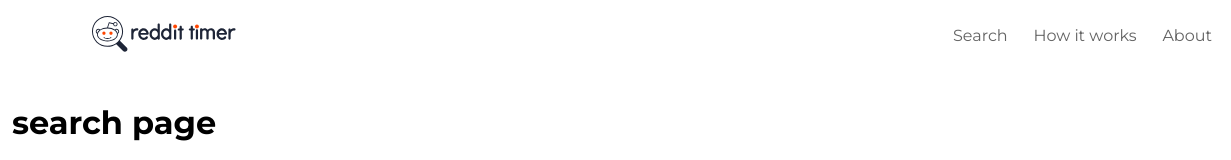
navigates to "About" section when "About" link is clicked
Click the link "About": click(1187, 34) [1162, 26, 1212, 44]
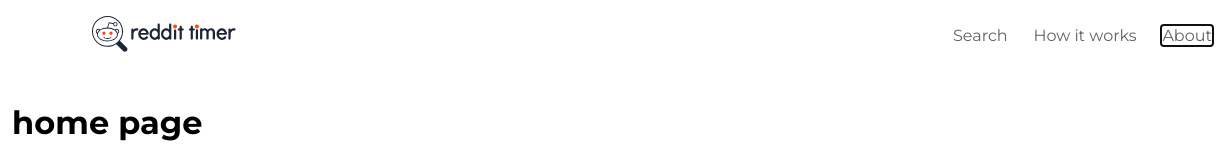
Result: the heading "home page" is shown at [12, 103, 202, 142]
